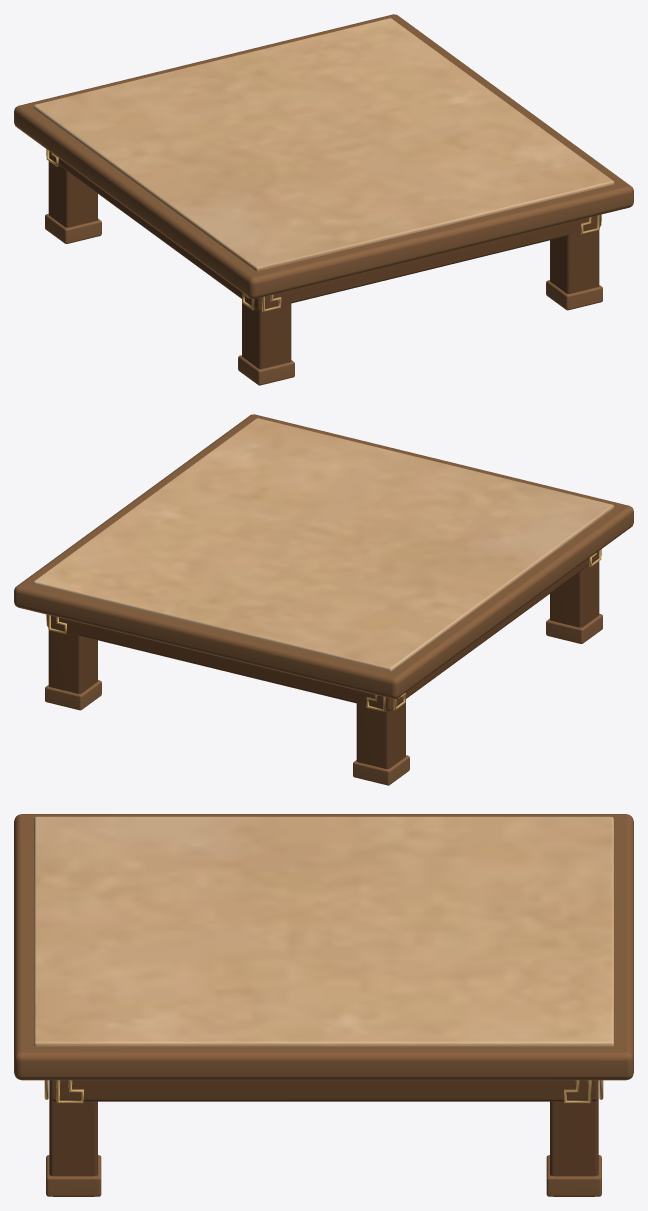
Rendered from restoration-table.glb.
The picture shows the model from 3 angles, top to bottom: view 1: azimuth 30°, elevation 25°; view 2: azimuth 150°, elevation 25°; view 3: azimuth 270°, elevation 25°; orthographic projection. The views are drawn at different scales.
Visible parts, largest first — view 1: restoration-table_Warm ivory limestone, restoration-table_Walnut edge highlight, restoration-table_Dark walnut frame, restoration-table_Brass inlay; view 2: restoration-table_Warm ivory limestone, restoration-table_Walnut edge highlight, restoration-table_Dark walnut frame, restoration-table_Brass inlay; view 3: restoration-table_Warm ivory limestone, restoration-table_Walnut edge highlight, restoration-table_Dark walnut frame, restoration-table_Brass inlay.
Boxes of the visible parts, box(x1,y1,x2,y2) form: restoration-table_Warm ivory limestone: box(33, 18, 614, 271); restoration-table_Walnut edge highlight: box(14, 14, 633, 385); restoration-table_Dark walnut frame: box(48, 151, 600, 368); restoration-table_Brass inlay: box(46, 149, 601, 311); restoration-table_Warm ivory limestone: box(33, 418, 614, 671); restoration-table_Walnut edge highlight: box(14, 414, 633, 785); restoration-table_Dark walnut frame: box(47, 551, 599, 768); restoration-table_Brass inlay: box(46, 549, 601, 711); restoration-table_Warm ivory limestone: box(34, 816, 613, 1046); restoration-table_Walnut edge highlight: box(14, 814, 633, 1196); restoration-table_Dark walnut frame: box(49, 1080, 598, 1196); restoration-table_Brass inlay: box(44, 1080, 603, 1103).
Bounding box in the file's own units: 2.6 × 0.805 × 2.8.
4 materials, 1 textured.
